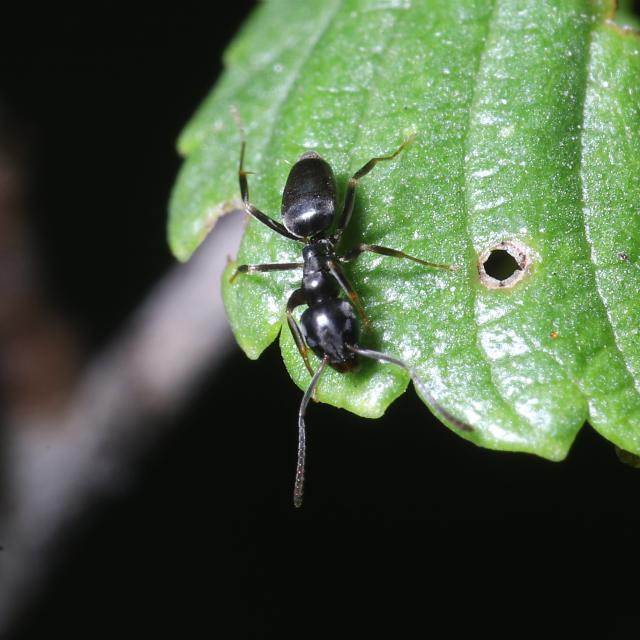Tapinoma: (230, 130, 422, 398)
